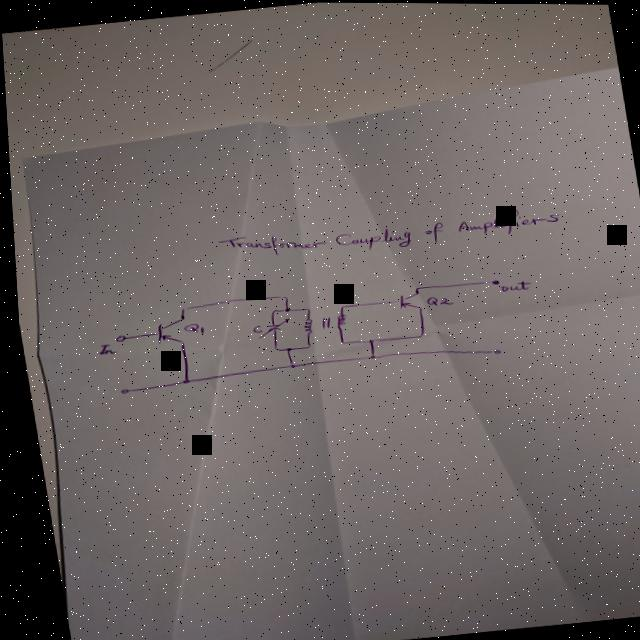capacitor: (248, 315, 287, 338)
junction: (280, 360, 292, 367), (362, 351, 372, 357), (174, 376, 184, 382), (278, 345, 287, 351), (274, 293, 284, 298), (361, 337, 370, 342), (277, 306, 286, 311), (299, 342, 307, 347), (175, 304, 183, 309), (333, 303, 341, 308), (412, 331, 419, 336), (264, 307, 271, 312), (299, 305, 306, 310), (267, 344, 273, 349), (333, 338, 339, 343), (408, 284, 414, 288)
terminal: (479, 277, 496, 284), (481, 346, 497, 353), (108, 333, 121, 340), (112, 387, 125, 393)
text: (209, 199, 560, 266), (492, 277, 528, 290), (419, 292, 450, 305), (176, 320, 200, 335), (89, 341, 112, 354), (245, 322, 258, 331)
transformer: (295, 311, 344, 333)
transistor: (146, 315, 185, 346), (389, 289, 420, 310)
